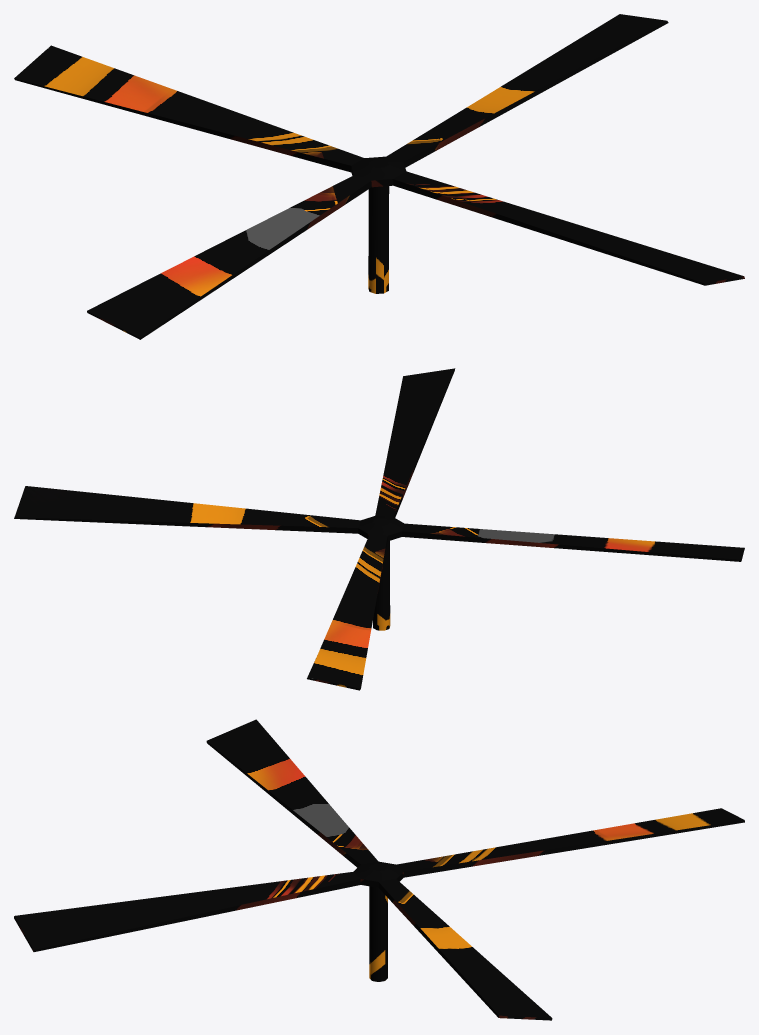
The model's file is HelicopterPropeller.obj.
3 views of the same model, one above another, from view 1: azimuth 30°, elevation 25°; view 2: azimuth 150°, elevation 25°; view 3: azimuth 270°, elevation 25° (orthographic). The views are drawn at different scales.
Parts seen in each view (by area): view 1: Propeller_Cube1.001; view 2: Propeller_Cube1.001; view 3: Propeller_Cube1.001.
Boxes of the visible parts, x1=… form: Propeller_Cube1.001: x1=14, y1=14, x2=744, y2=339; Propeller_Cube1.001: x1=14, y1=368, x2=744, y2=690; Propeller_Cube1.001: x1=14, y1=719, x2=744, y2=1020.
Bounding box in the file's own units: 4.42 × 0.7736 × 4.42.
Materials: 1 (1 with a texture image).
